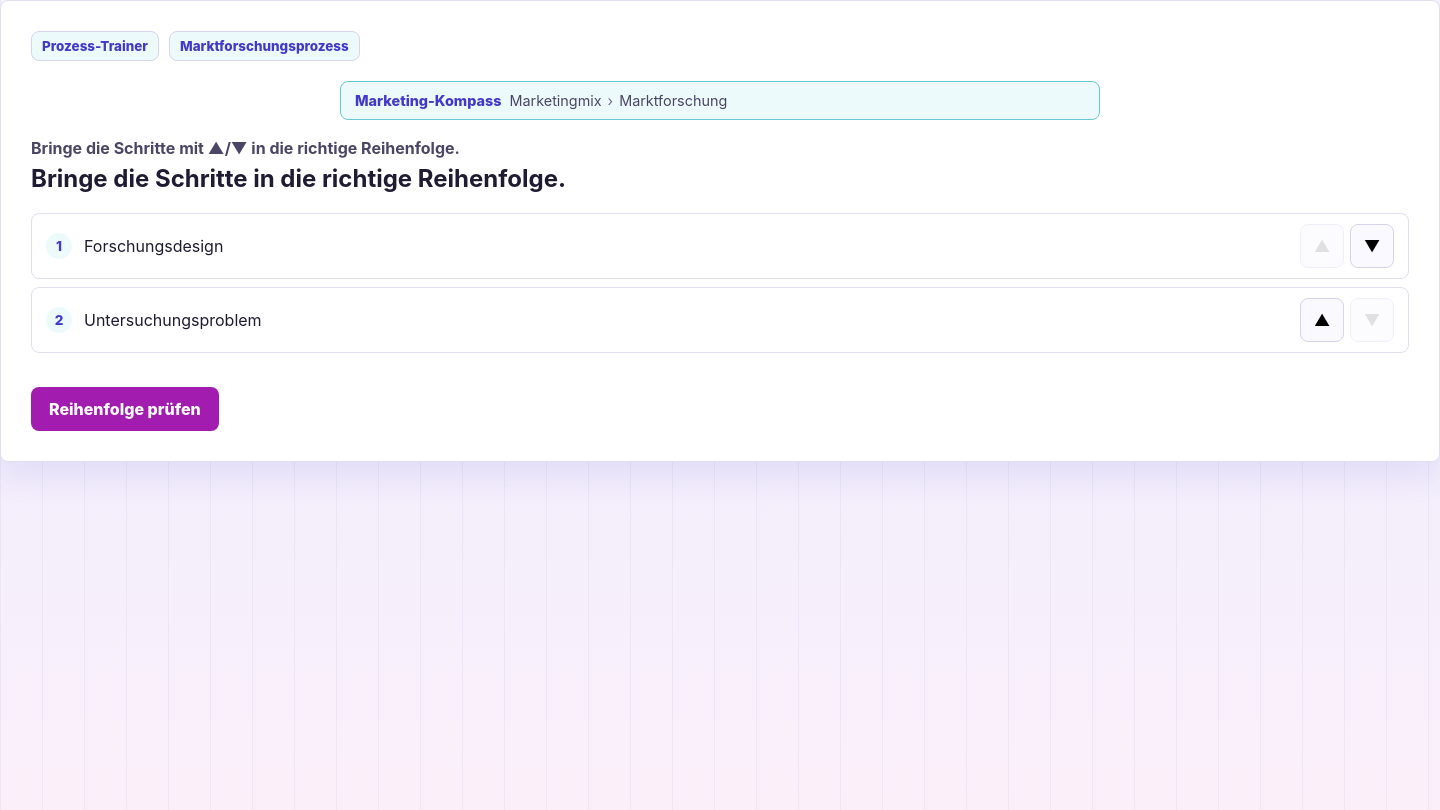
it: ProcessTrainer (Test 13, 14, 15) › erkennt die bereits korrekte Reihenfolge nach Umsortieren per ▲ (Test 13)
Click the button named "Nach oben verschieben": {"x": 1322, "y": 320} [1300,298,1344,342]
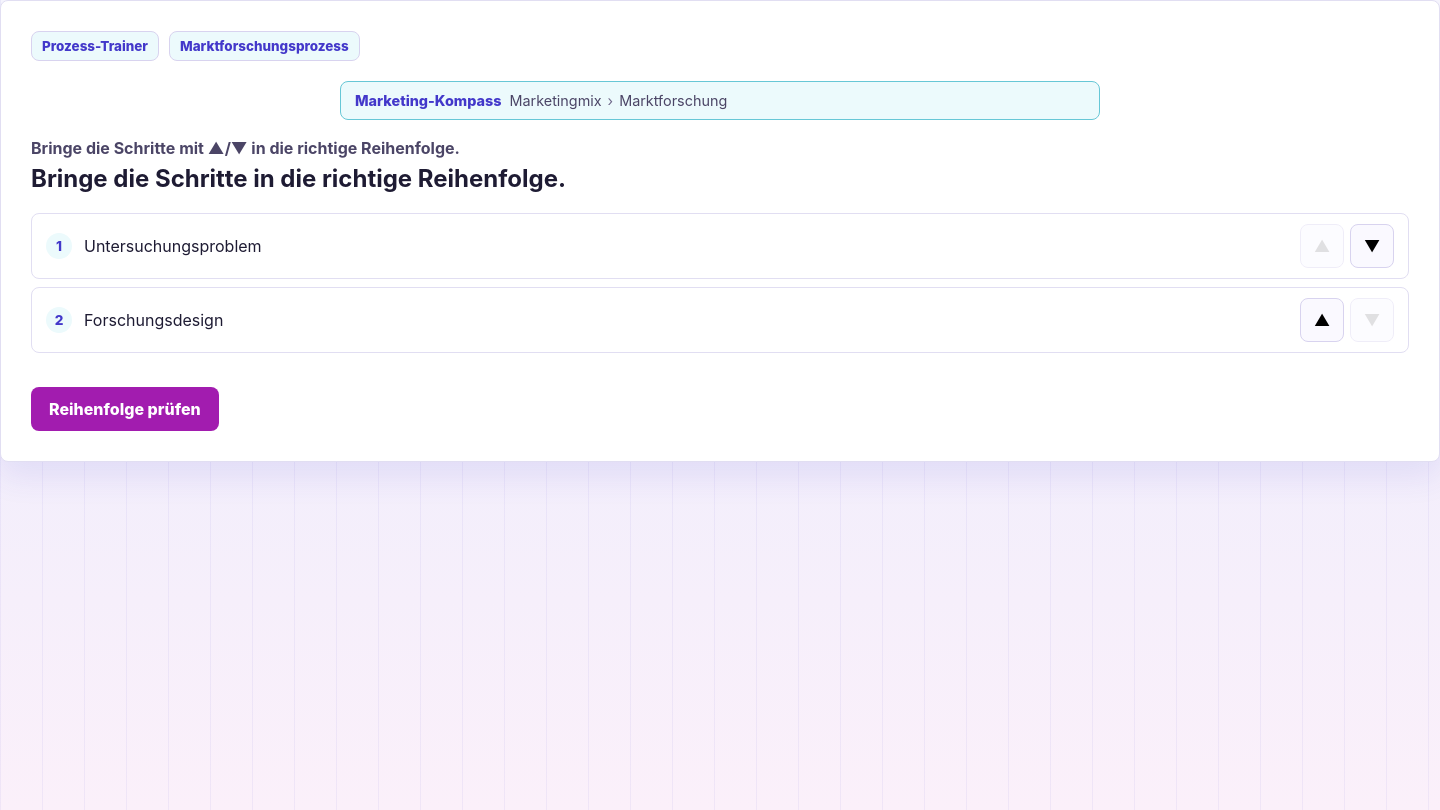
Click the button "Reihenfolge prüfen": {"x": 125, "y": 409} [31,387,219,431]
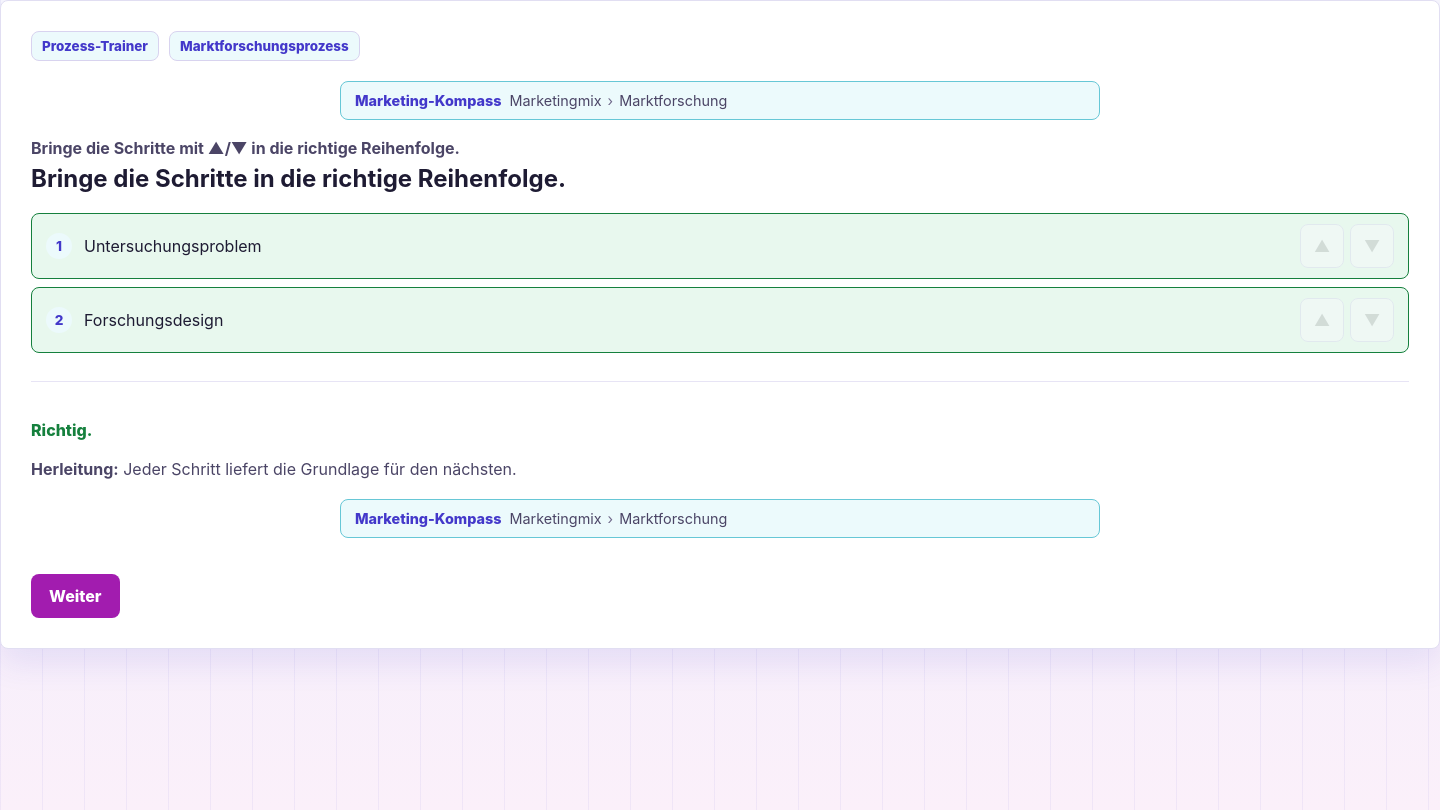
Result: the text "Richtig." is shown at [31,420,92,440]
